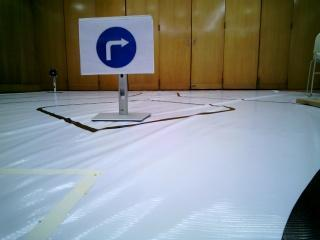right: (79, 21, 152, 74)
